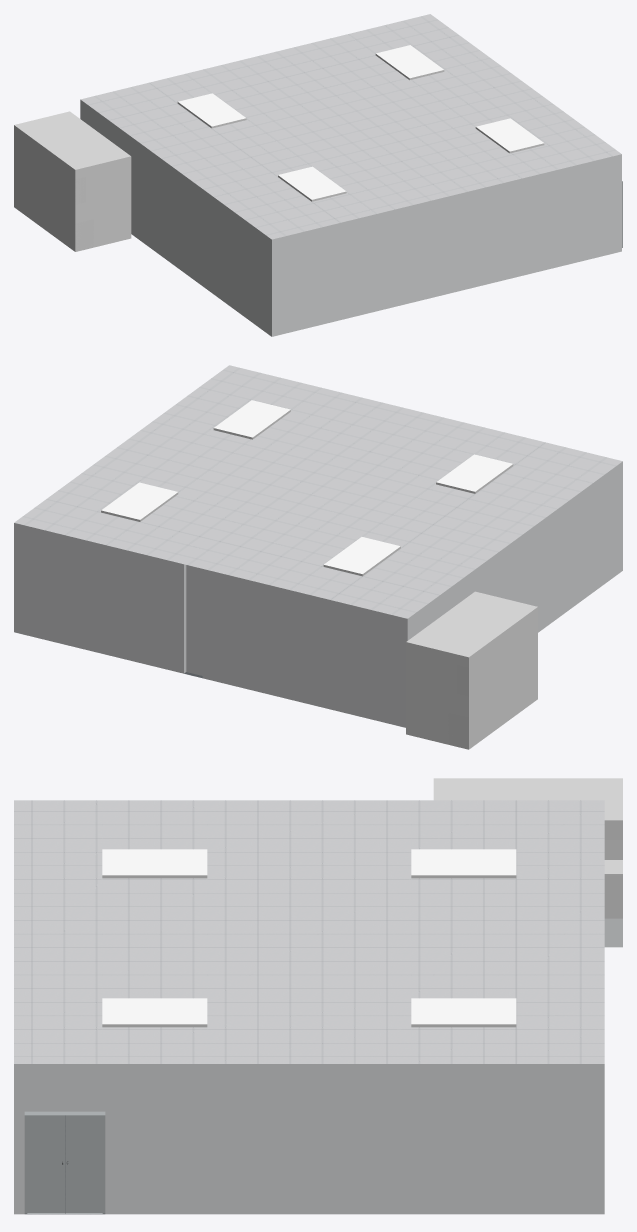
File: sala.glb
3 views of the same model, one above another, from view 1: azimuth 30°, elevation 25°; view 2: azimuth 150°, elevation 25°; view 3: azimuth 270°, elevation 25° (orthographic). The views are drawn at different scales.
Parts seen in each view (by area): view 1: Sala, Luzes, Objetos; view 2: Sala, Luzes, Objetos; view 3: Sala, Luzes, Objetos.
Boxes of the visible parts, left/top/right/bottom form: Sala: left=14, top=14, right=622, bottom=336; Luzes: left=178, top=45, right=543, bottom=199; Objetos: left=75, top=177, right=93, bottom=251; Sala: left=14, top=365, right=622, bottom=749; Luzes: left=101, top=400, right=512, bottom=573; Objetos: left=448, top=665, right=468, bottom=749; Sala: left=14, top=778, right=622, bottom=1214; Luzes: left=102, top=849, right=516, bottom=1024; Objetos: left=24, top=820, right=622, bottom=1213.
Bounding box in the file's own units: 13.74 × 3.14 × 11.32.
Materials: 17 (5 with a texture image).
